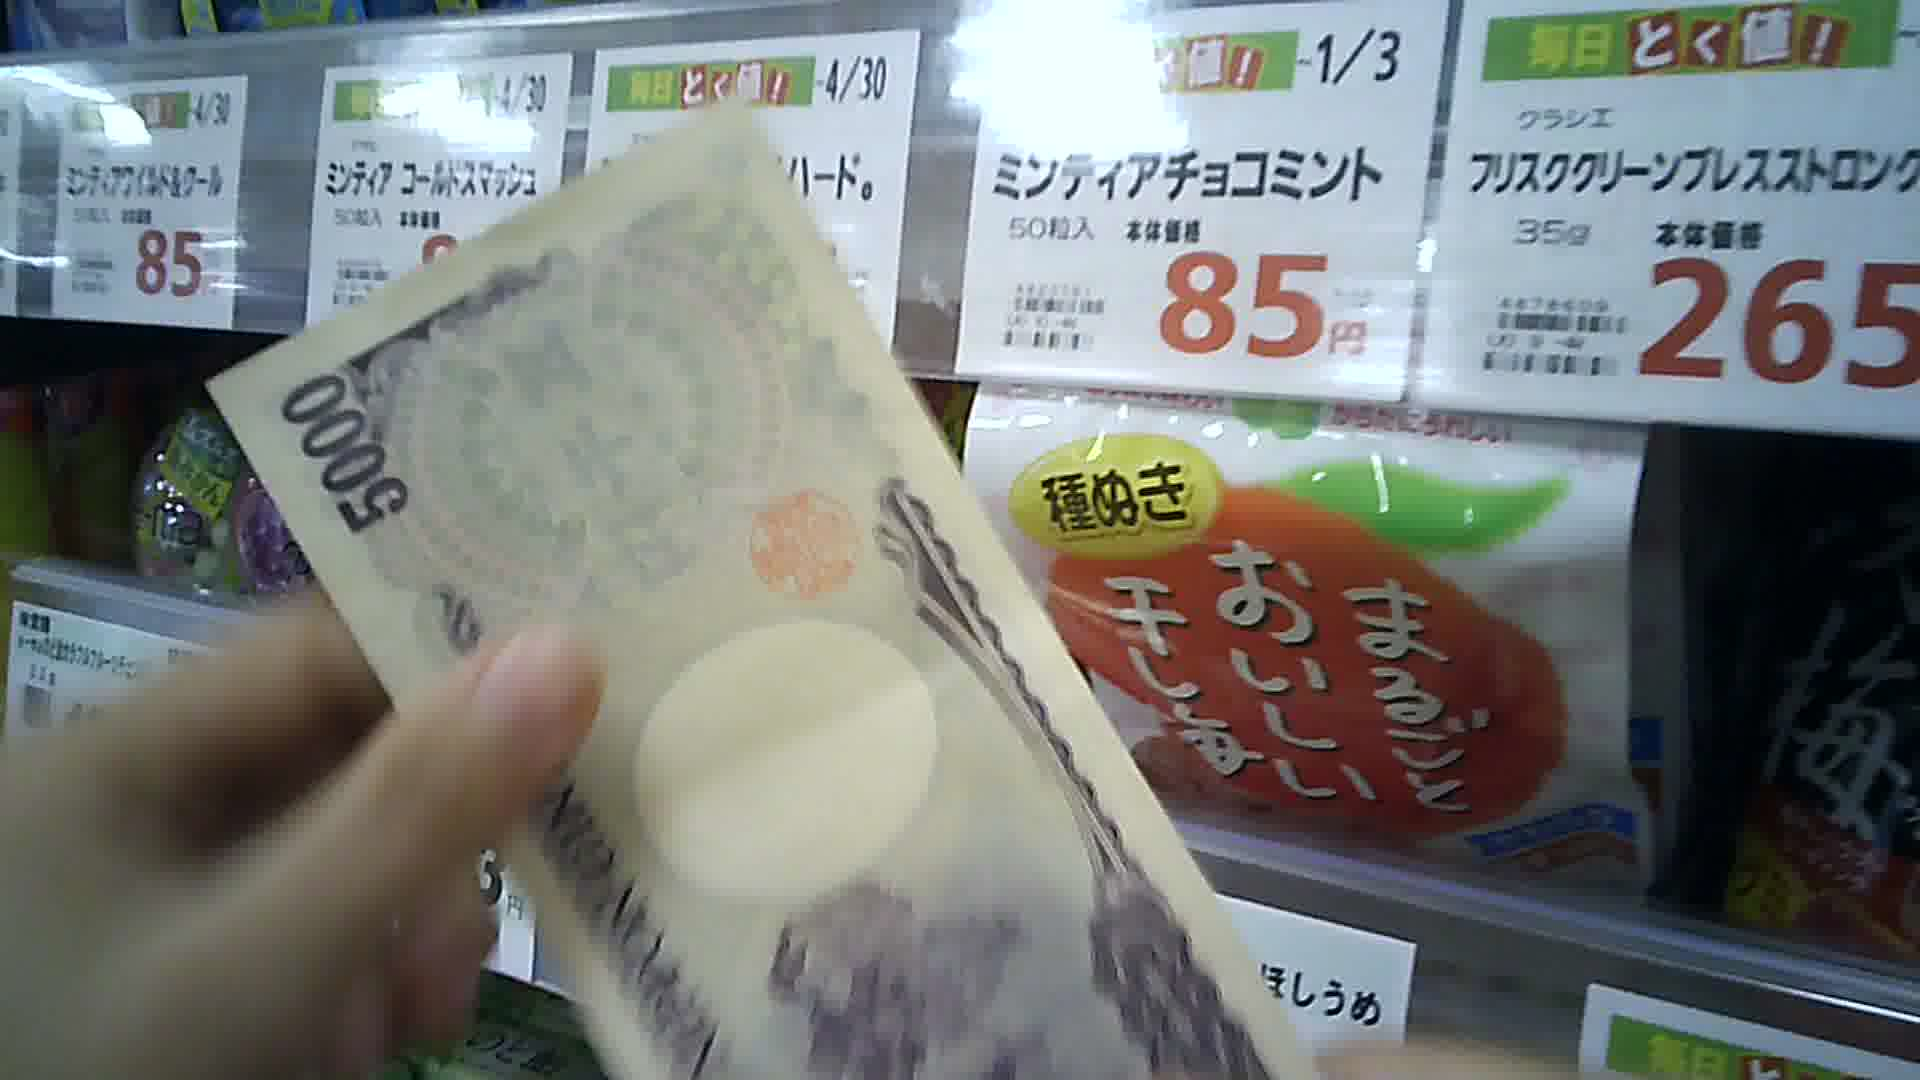5,000 Yen: (210, 79, 1335, 1079)
